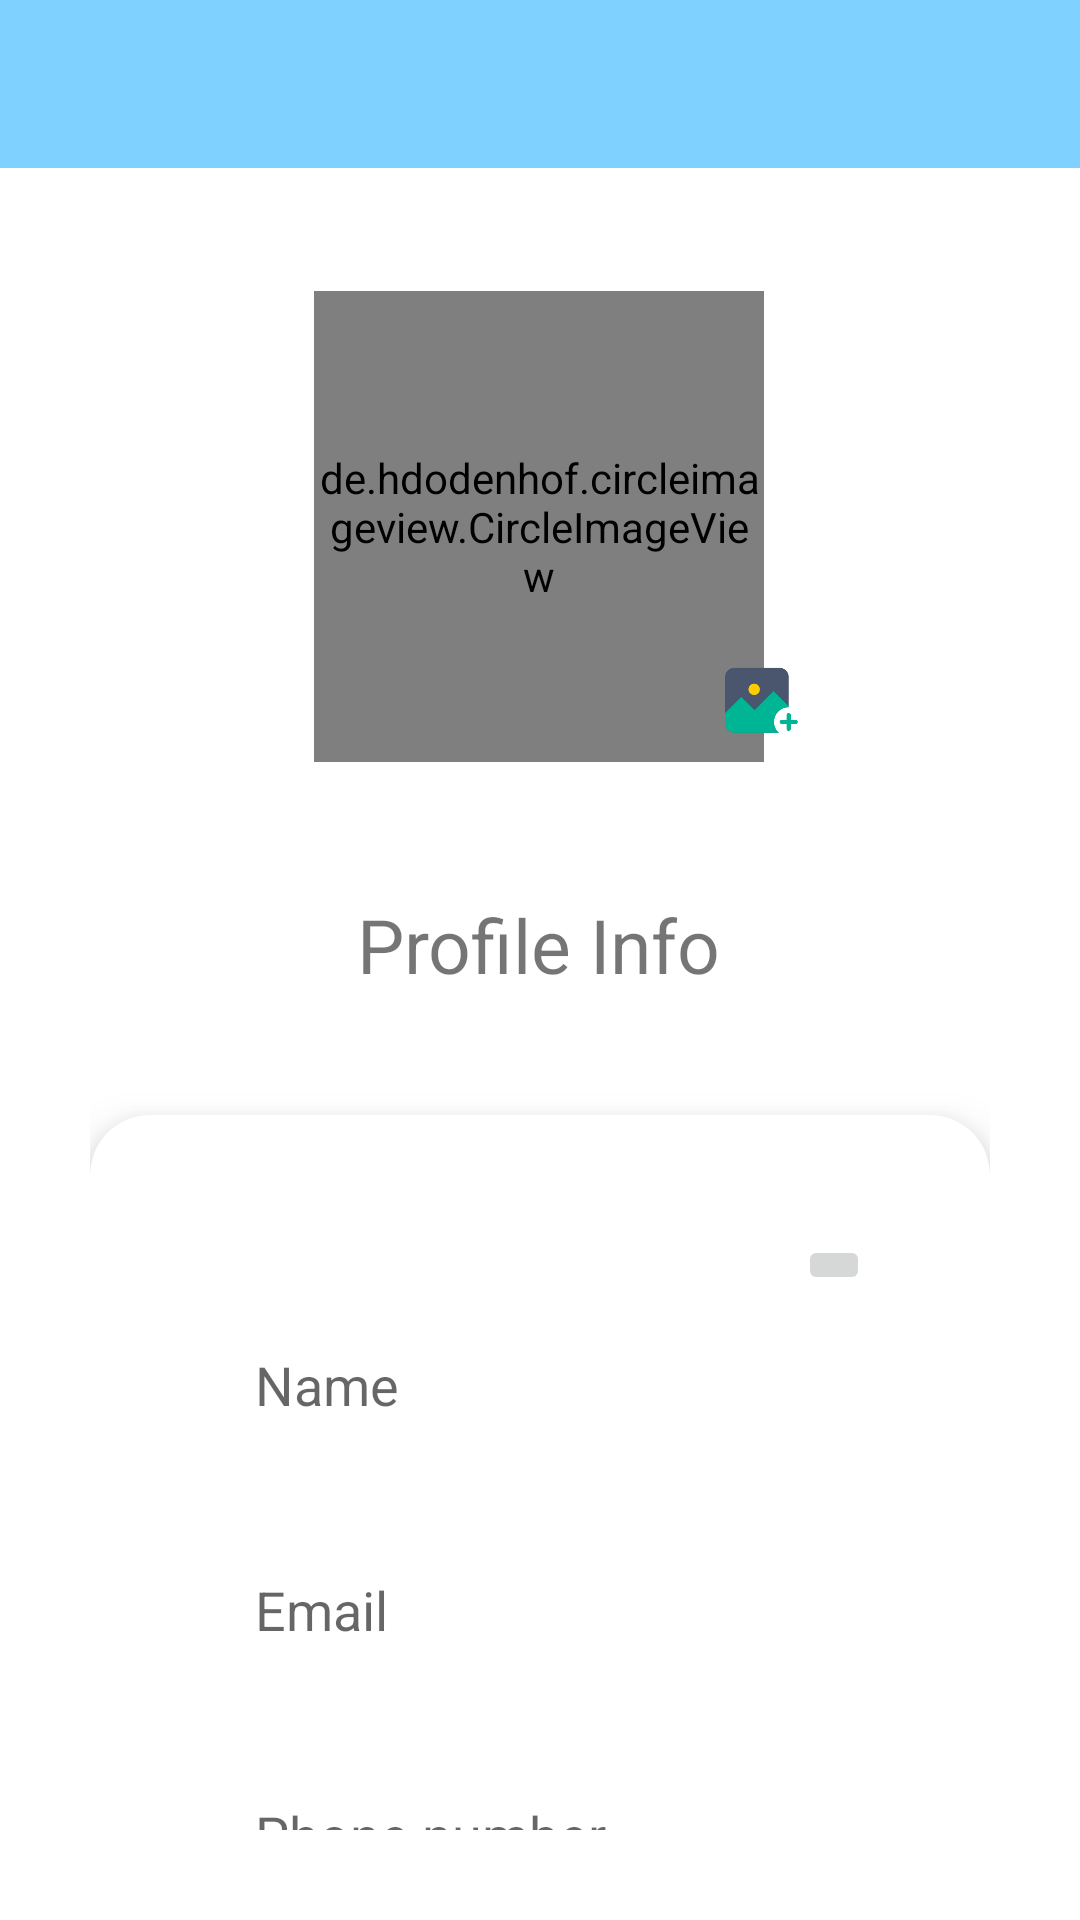

Named icons in this screenshot (1080px x 1920px) and their centers, (x=x, y=y):
photoadd: (x=751, y=702)
